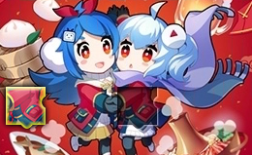gap: (116, 87, 158, 128)
